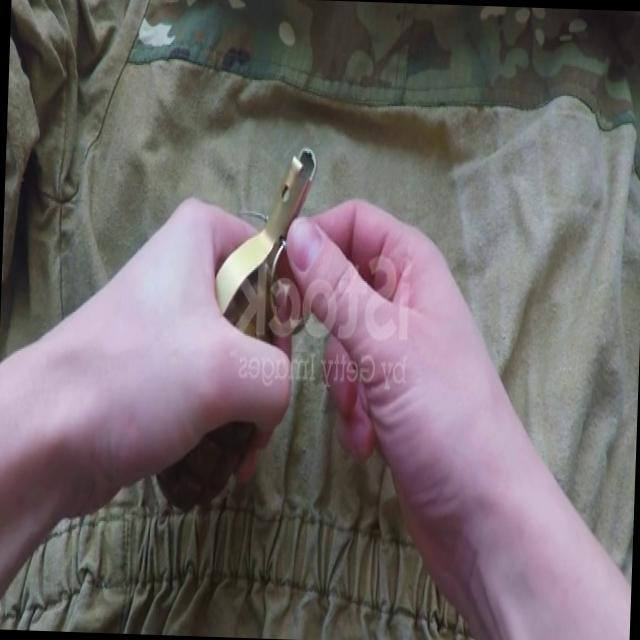grenade: (144, 142, 318, 522)
